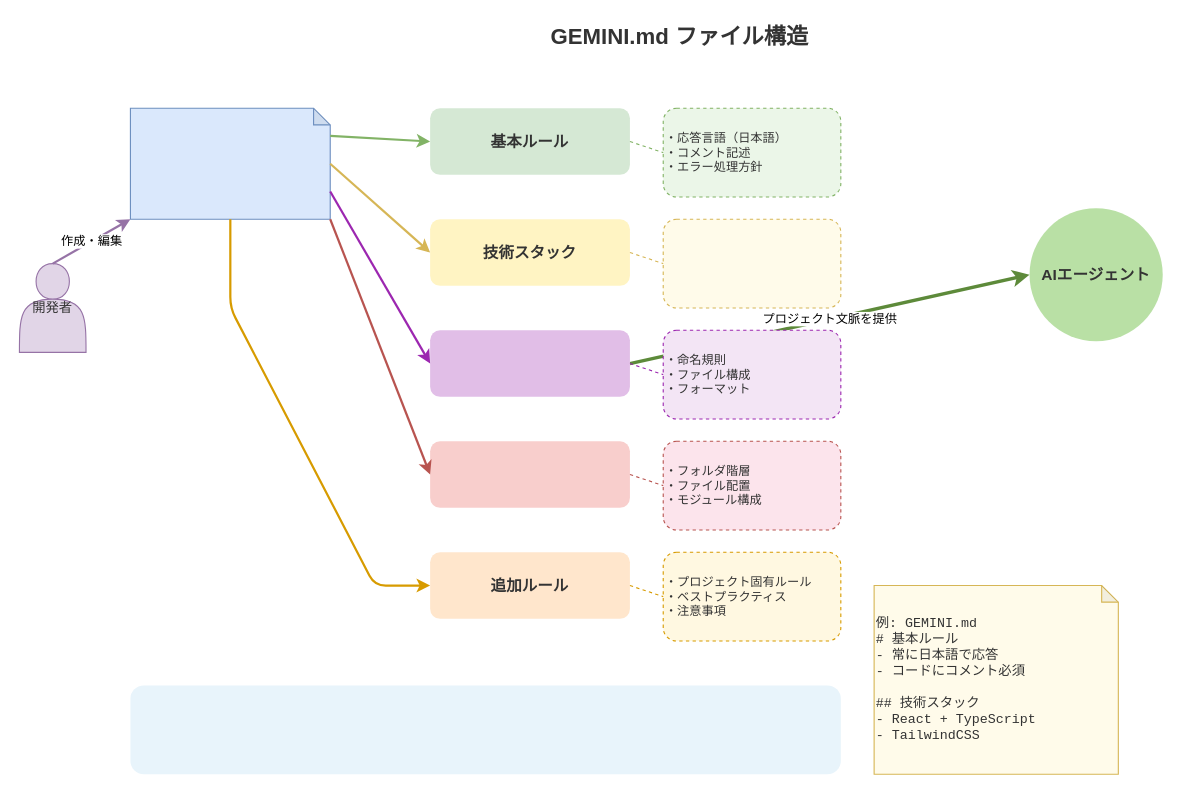
Some shapes in this 1182 by 794 pixel diagram are drawn without their labels. Here are the shapes that lost their labels. From the top down, the centre of each, then its label:
the point at 229,163: .agent/GEMINI.md
the point at 751,263: ・言語 / フレームワーク ・ライブラリ ・ビルドツール
the point at 529,363: コーディング規約
the point at 529,474: ディレクトリ構造
the point at 485,729: ✨ GEMINI.mdのメリット ・プロジェクト固有のルールを一元管理 ・AIが自動的に従う ・チーム全体で統一された開発スタイル
